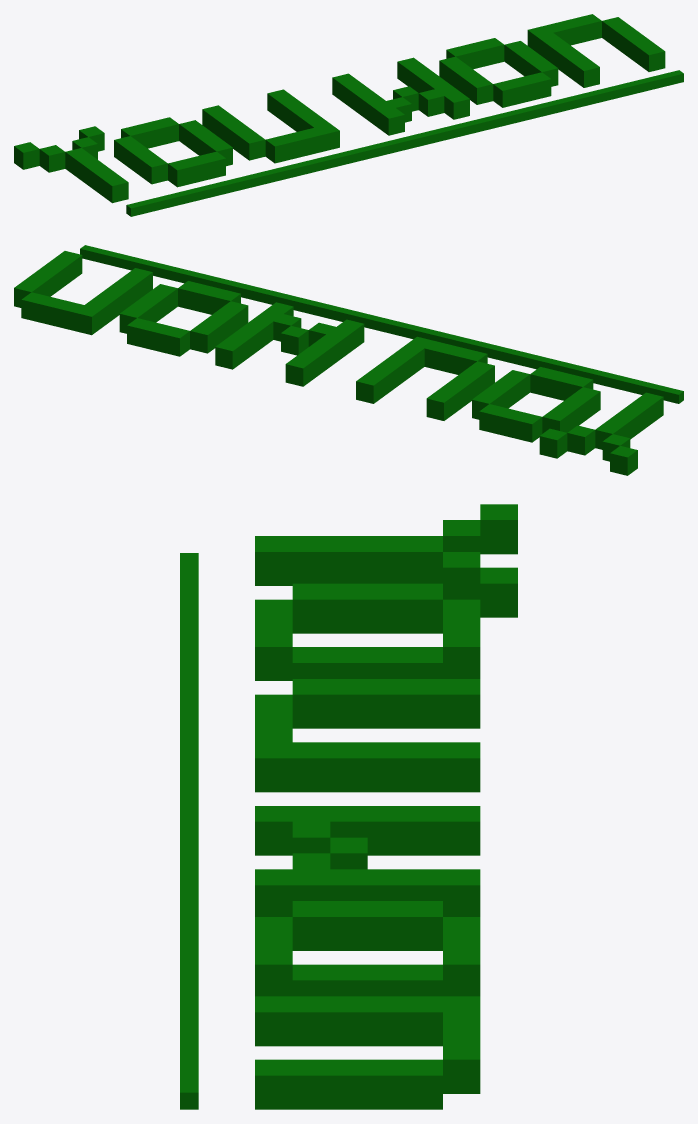
File: Won.obj
3 renders of one model, top to bottom at view 1: azimuth 30°, elevation 25°; view 2: azimuth 150°, elevation 25°; view 3: azimuth 270°, elevation 25°, orthographic. The views are drawn at different scales.
Visible parts, largest first — view 1: Won; view 2: Won; view 3: Won.
Boxes of the visible parts, x1,y1,x2,y2 form: Won: (14, 14, 683, 216); Won: (14, 245, 683, 475); Won: (180, 504, 517, 1109).
Size of the model in its own units: 72 by 2 by 18.
1 material, 1 textured.
